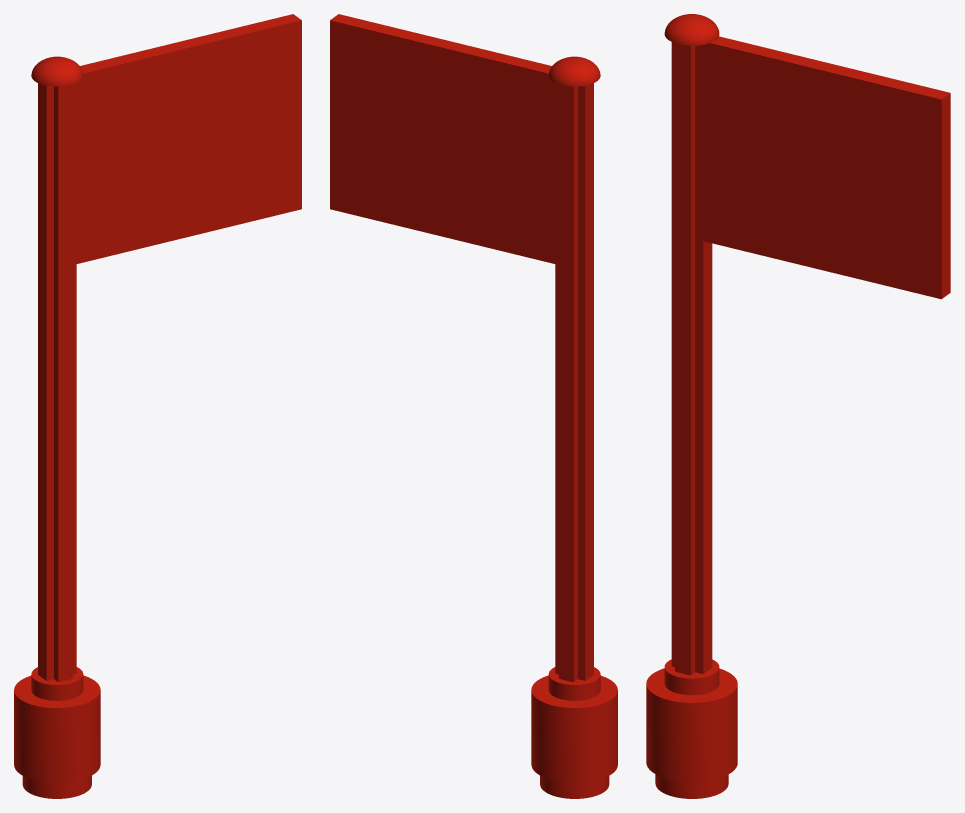
The model's file is end.dae.
3 renders of one model, left to right at view 1: azimuth 30°, elevation 25°; view 2: azimuth 150°, elevation 25°; view 3: azimuth 330°, elevation 25°, orthographic. The views are drawn at different scales.
Parts seen in each view (by area): view 1: Inner-Node-end_dot_io-0; view 2: Inner-Node-end_dot_io-0; view 3: Inner-Node-end_dot_io-0.
Part boxes in pixels (x1,y1,x2,y2): Inner-Node-end_dot_io-0: [14, 14, 301, 798]; Inner-Node-end_dot_io-0: [330, 14, 617, 798]; Inner-Node-end_dot_io-0: [646, 14, 950, 798].
Size of the model in its own units: 73.75 by 184 by 19.75.
